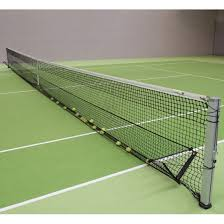tennis_ball: (73, 111, 80, 117), (79, 115, 85, 122), (115, 140, 122, 146), (125, 147, 132, 153), (62, 105, 68, 111), (88, 118, 94, 124), (83, 118, 88, 125), (99, 129, 104, 136), (54, 100, 60, 105), (71, 106, 76, 112), (91, 125, 97, 130), (100, 127, 106, 131), (50, 96, 54, 101)
